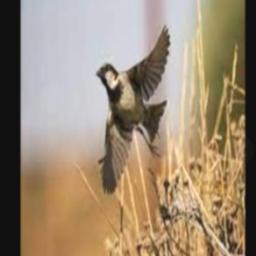Sparrow: (96, 23, 170, 194)
